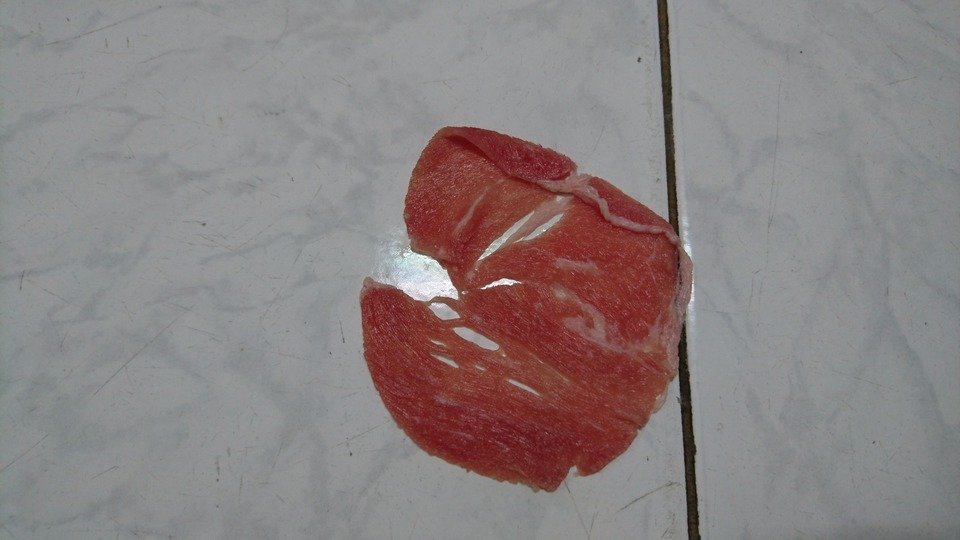restructured meat: (353, 100, 705, 492)
